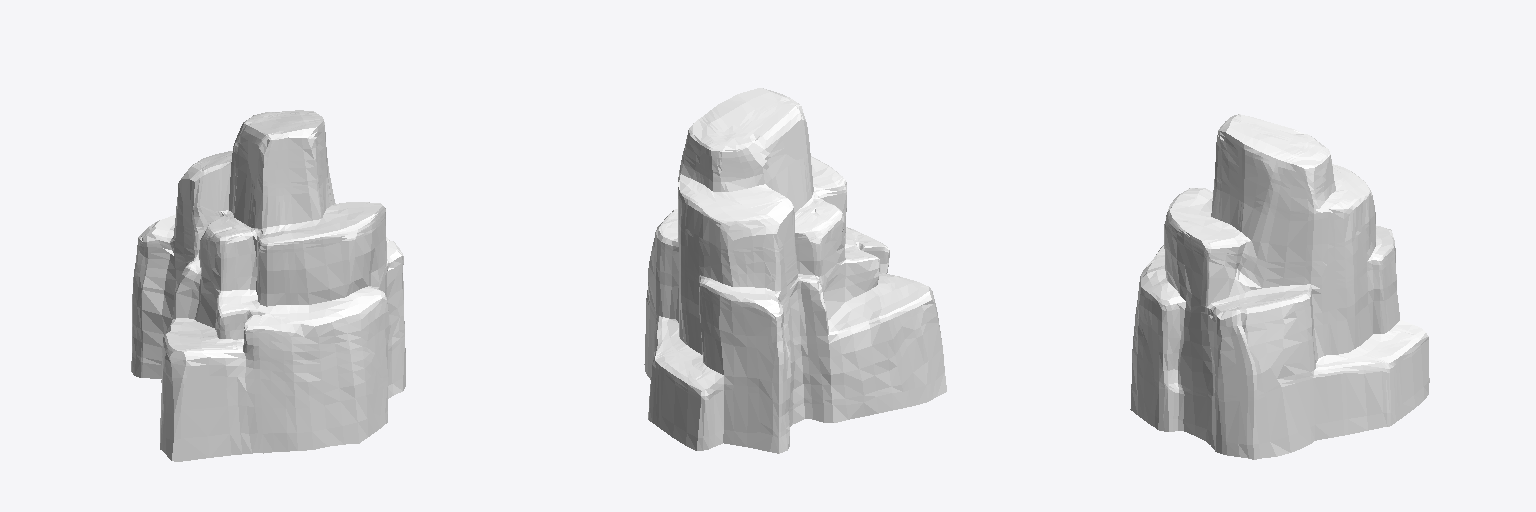
Rendered from rock3.obj.
3 views of the same model, side by side, from view 1: azimuth 30°, elevation 25°; view 2: azimuth 150°, elevation 25°; view 3: azimuth 270°, elevation 25° (orthographic).
Visible parts, largest first — view 1: RetopoGroup1; view 2: RetopoGroup1; view 3: RetopoGroup1.
Boxes of the visible parts, box(x1,y1,x2,y2) form: RetopoGroup1: box(131, 110, 405, 461); RetopoGroup1: box(644, 88, 946, 453); RetopoGroup1: box(1130, 114, 1429, 459).
Bounding box in the file's own units: 28.77 × 29.24 × 28.27.